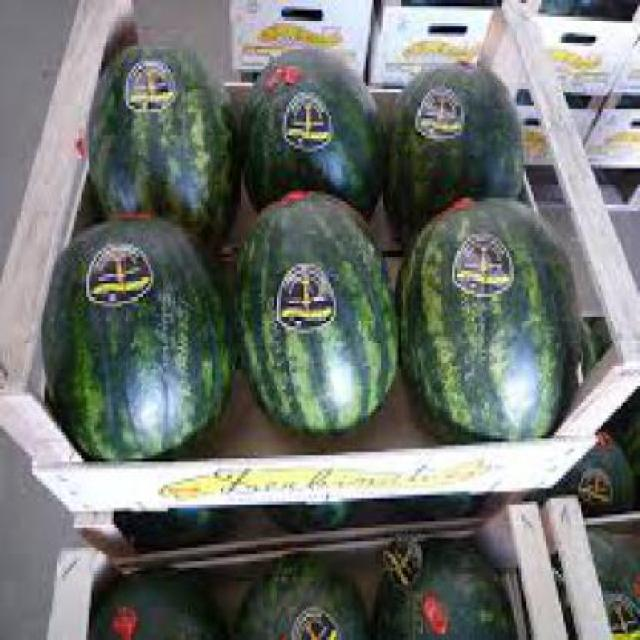BIODEGRADABLE: (398, 200, 585, 442), (42, 220, 232, 458), (235, 192, 398, 435), (88, 45, 237, 245), (389, 68, 525, 248), (242, 52, 382, 220), (378, 545, 514, 640), (231, 558, 368, 640), (91, 572, 218, 640)
